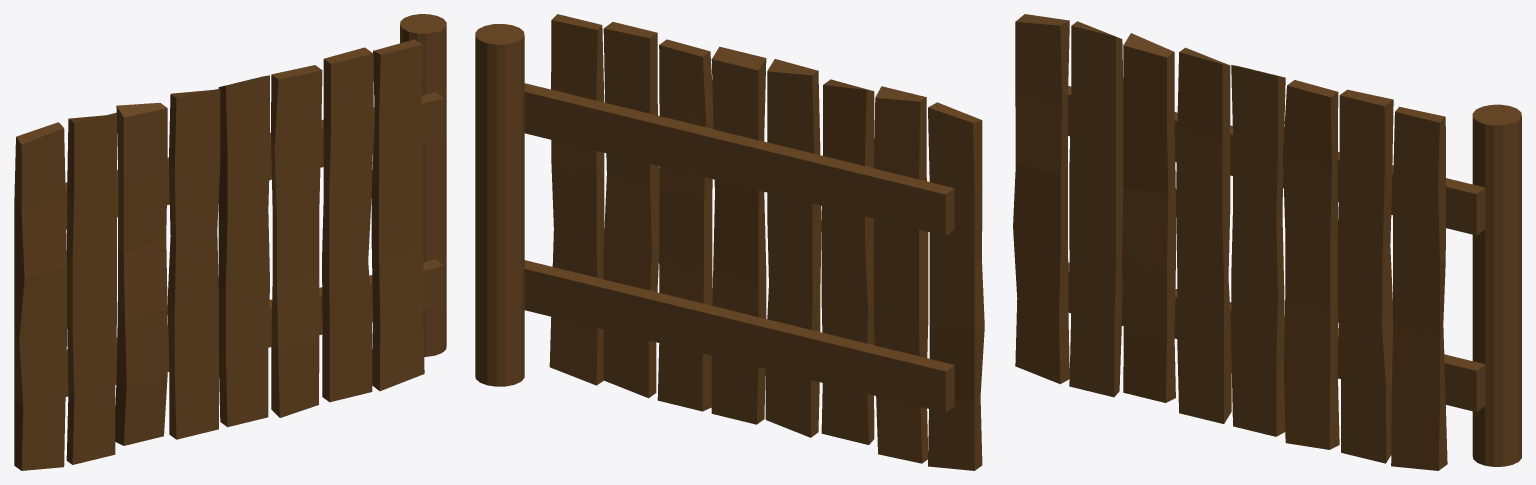
Rendered from фронт.fbx.
The picture shows the model from 3 angles, left to right: view 1: azimuth 30°, elevation 25°; view 2: azimuth 150°, elevation 25°; view 3: azimuth 330°, elevation 25°; orthographic projection. The views are drawn at different scales.
Visible parts, largest first — view 1: Cylinder.002; view 2: Cylinder.002; view 3: Cylinder.002.
Part boxes in pixels (x1,y1,x2,y2): Cylinder.002: [14, 14, 446, 470]; Cylinder.002: [475, 14, 984, 470]; Cylinder.002: [1013, 14, 1521, 470].
Size of the model in its own units: 121 by 88.26 by 18.71.
